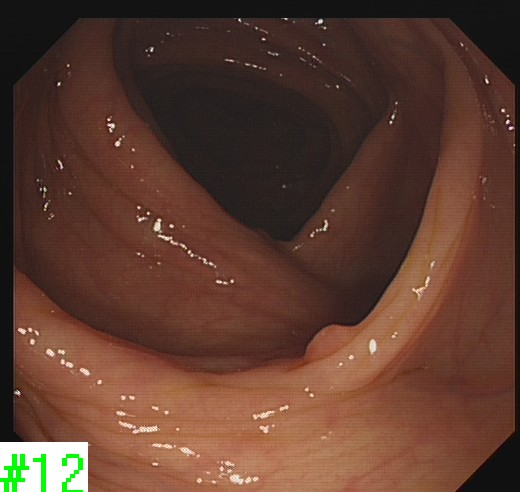adenoma: (300, 321, 353, 362)
